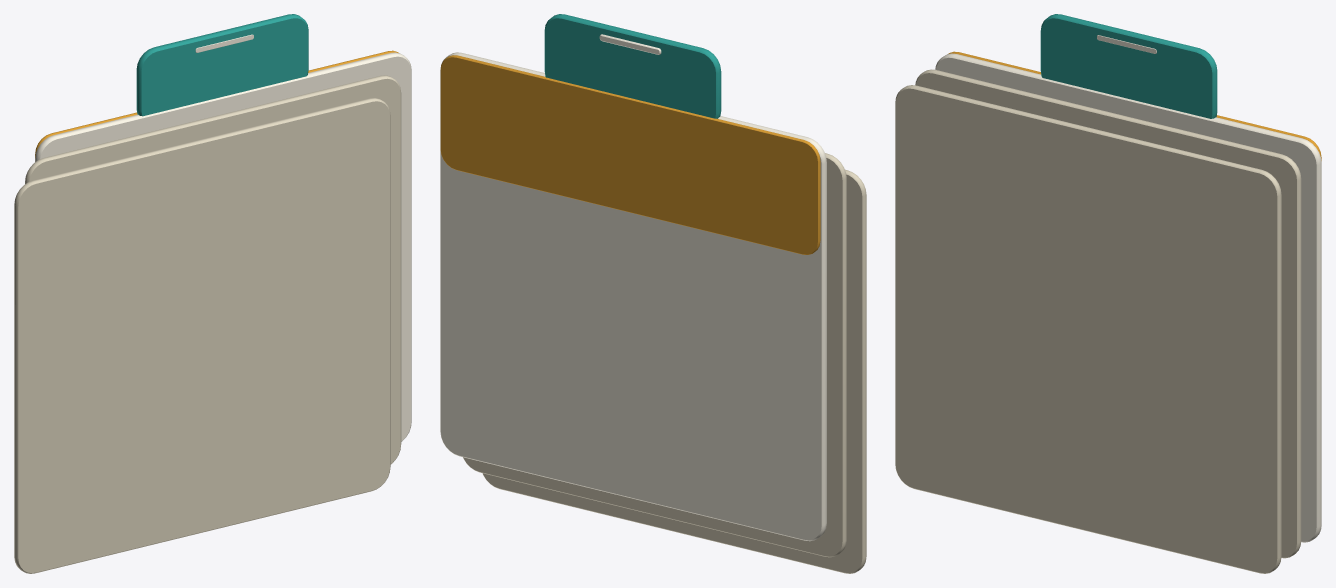
The model's file is Doc_PaperV2_Small.fbx.
3 renders of one model, left to right at view 1: azimuth 30°, elevation 25°; view 2: azimuth 150°, elevation 25°; view 3: azimuth 330°, elevation 25°, orthographic. The views are drawn at different scales.
Parts seen in each view (by area): view 1: SmallCover_PaperEdge, SmallCover_Paper, GrabTab, CoverBand; view 2: SmallCover_Paper, CoverBand, SmallCover_PaperEdge, GrabTab; view 3: SmallCover_PaperEdge, SmallCover_Paper, GrabTab, CoverBand.
Part boxes in pixels (x1,y1,x2,y2): SmallCover_PaperEdge: (14, 75, 401, 573); SmallCover_Paper: (35, 52, 411, 441); GrabTab: (136, 14, 308, 116); CoverBand: (35, 50, 398, 157); SmallCover_Paper: (440, 52, 826, 541); CoverBand: (440, 55, 820, 254); SmallCover_PaperEdge: (463, 153, 866, 573); GrabTab: (544, 14, 721, 118); SmallCover_PaperEdge: (895, 69, 1301, 573); SmallCover_Paper: (935, 53, 1321, 542); GrabTab: (1040, 14, 1217, 118); CoverBand: (948, 51, 1321, 160).
Size of the model in its own units: 32.4 by 37.2 by 2.07.
